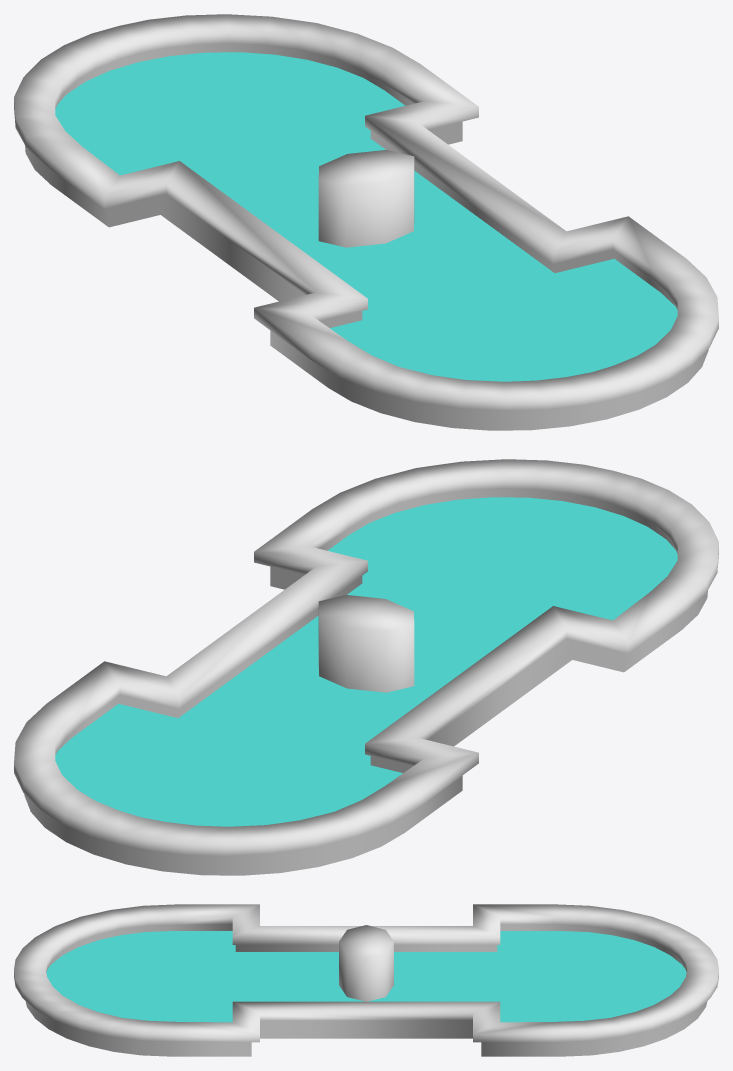
The model's file is Estanque.FBX.fbx.
3 renders of one model, top to bottom at view 1: azimuth 30°, elevation 25°; view 2: azimuth 150°, elevation 25°; view 3: azimuth 270°, elevation 25°, orthographic. The views are drawn at different scales.
Parts seen in each view (by area): view 1: Estanque_low, Agua; view 2: Estanque_low, Agua; view 3: Estanque_low, Agua.
Boxes of the visible parts, <box> form: Estanque_low: <box>14,14,718,430</box>; Agua: <box>55,52,677,381</box>; Estanque_low: <box>14,459,718,875</box>; Agua: <box>55,497,677,826</box>; Estanque_low: <box>14,904,718,1056</box>; Agua: <box>46,931,686,1022</box>.
Size of the model in its own units: 3.14 by 0.6029 by 7.19.
